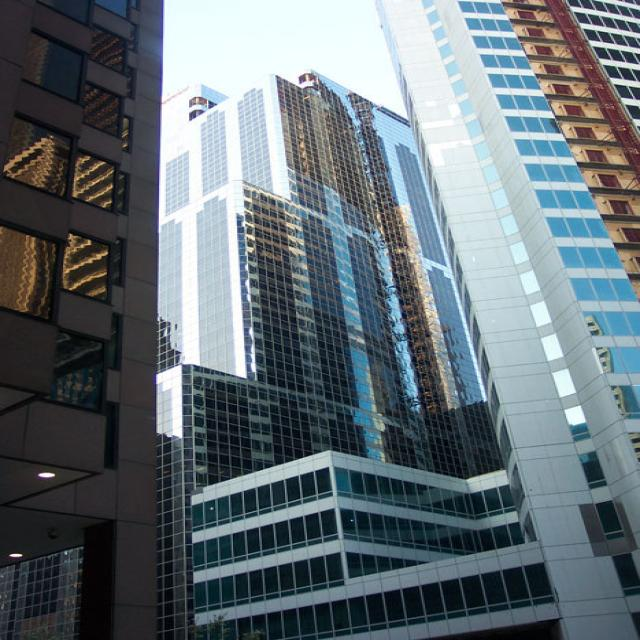building: (374, 0, 640, 640), (158, 70, 511, 480), (0, 0, 168, 640), (182, 450, 566, 640)
